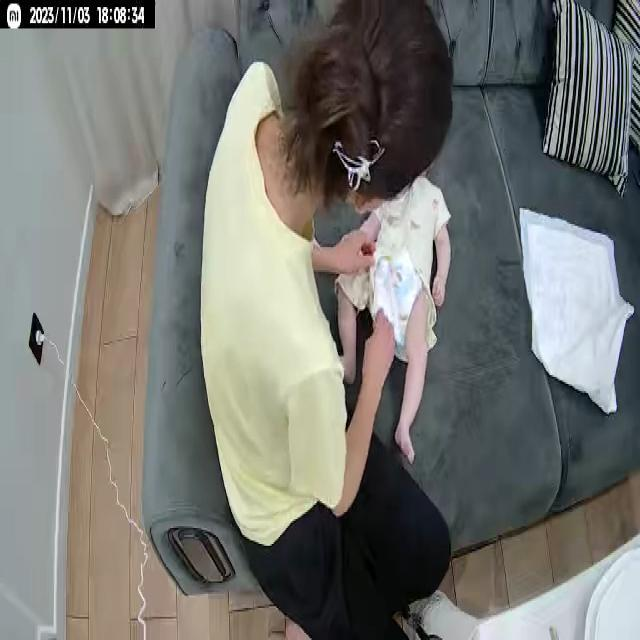baby: (334, 144, 454, 468)
